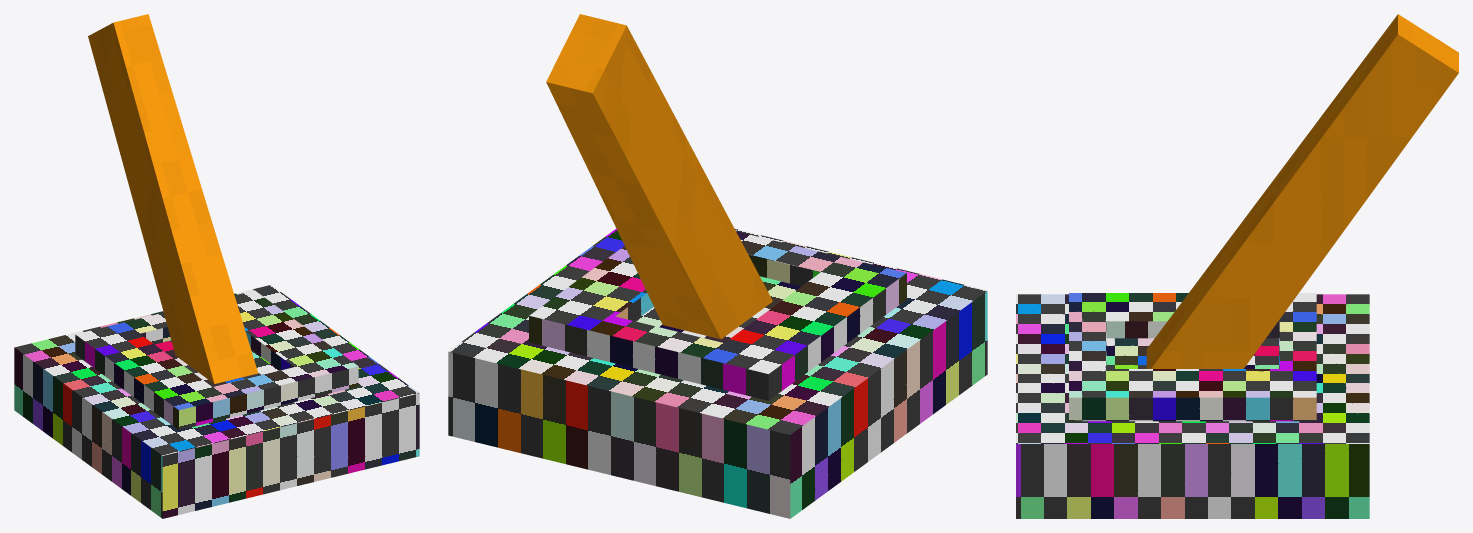
File: lever_off.obj
3 views of the same model, side by side, from view 1: azimuth 30°, elevation 25°; view 2: azimuth 150°, elevation 25°; view 3: azimuth 270°, elevation 25° (orthographic). The views are drawn at different scales.
Visible parts, largest first — view 1: Cube_frame, Cube_lever; view 2: Cube_frame, Cube_lever; view 3: Cube_frame, Cube_lever.
Boxes of the visible parts, x1,y1,x2,y2 form: Cube_frame: (14, 285, 419, 518); Cube_lever: (88, 14, 258, 383); Cube_frame: (448, 228, 987, 518); Cube_lever: (546, 14, 772, 339); Cube_frame: (1016, 293, 1369, 518); Cube_lever: (1146, 14, 1458, 368).
Bounding box in the file's own units: 0.4 × 0.5241 × 0.5008.
